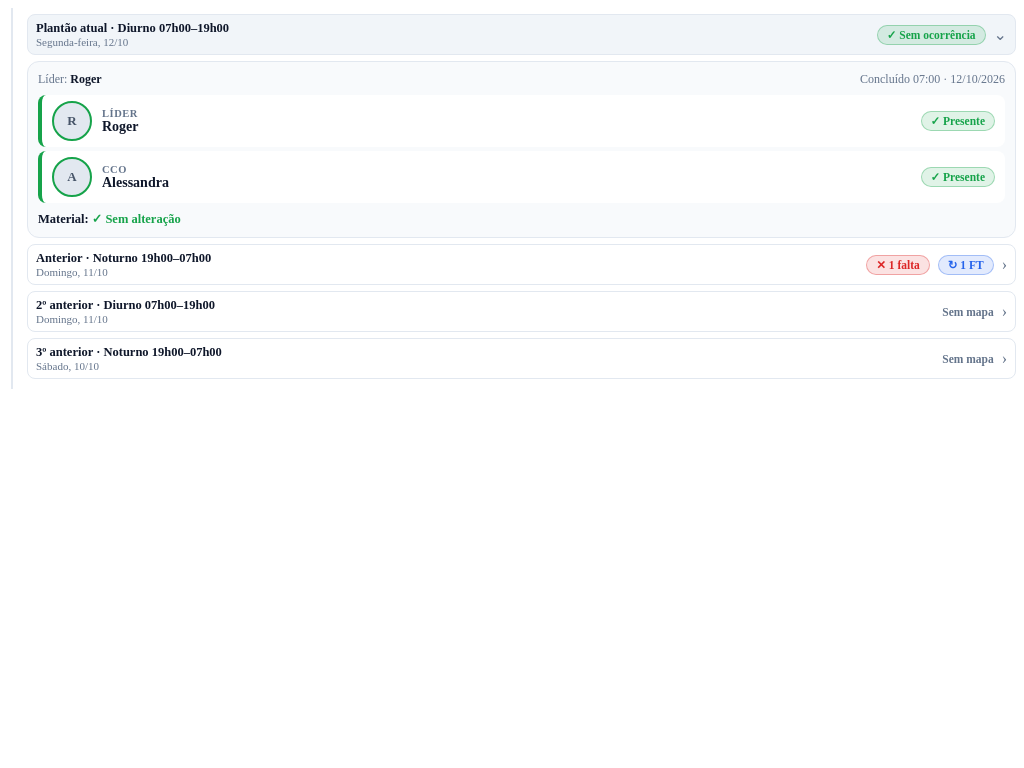
it: mostra 4 plantões, o atual já aberto com o mapa visual; os outros abrem ao tocar
Expected: the button that starts with "Plantão atual" is shown, x1=27 y1=14 x2=1016 y2=55
Expected: the button "2º anterior · Diurno 07h00–19h00 Domingo, 11/10 Sem mapa ›" is shown, x1=27 y1=291 x2=1016 y2=332
Click the button that starts with "Anterior" at coordinates (59, 258), box x1=27 y1=244 x2=1016 y2=285
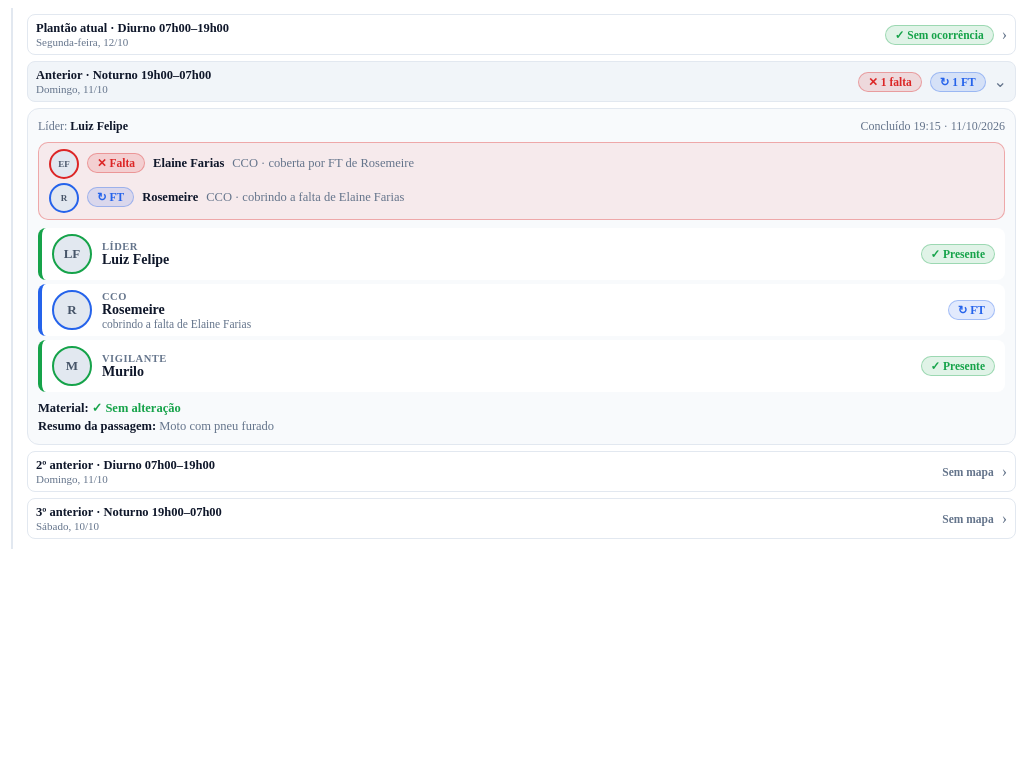
Expected: the element with test id "mapa-visual" shows "Moto com pneu furado", x1=159 y1=419 x2=274 y2=433
Expected: the element with test id "mapa-visual" shows "Elaine Farias", x1=153 y1=156 x2=224 y2=170
Expected: the element with test id "mapa-visual" shows "Falta", x1=110 y1=157 x2=135 y2=169
Click the button "2º anterior · Diurno 07h00–19h00 Domingo, 11/10 Sem mapa ›" at coordinates (65, 465), box x1=27 y1=451 x2=1016 y2=492
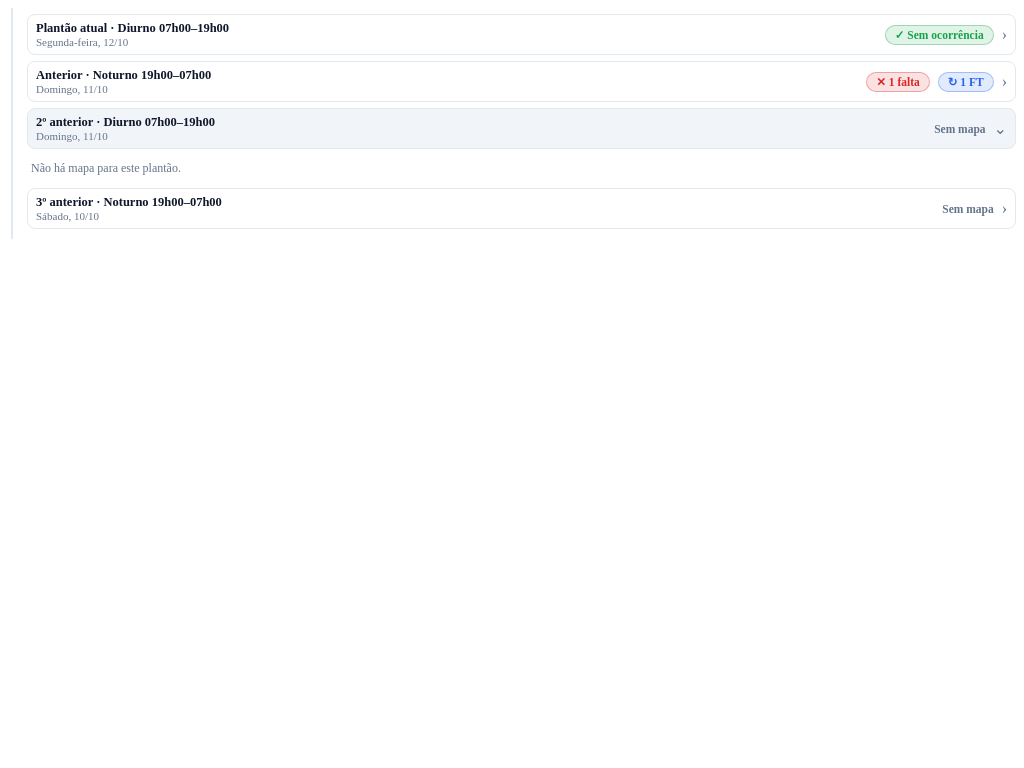
Expected: the text "Não há mapa para este plantão." is shown, x1=31 y1=161 x2=181 y2=175
